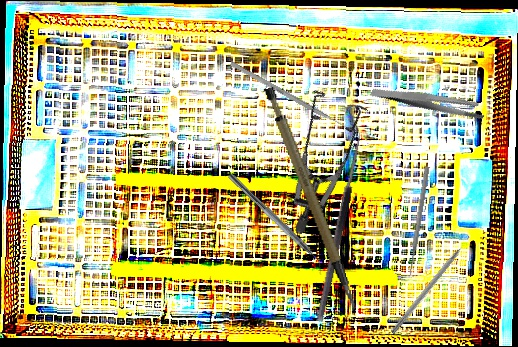Chopper: (221, 172, 331, 277)
Dressing Forceps: (370, 60, 488, 143)
Hook Surgical: (306, 127, 365, 323), (390, 235, 473, 336)
Pusher: (229, 61, 356, 134), (406, 166, 431, 277)
Scalpel Handle: (261, 80, 357, 318)
Speculum: (233, 72, 402, 236)
